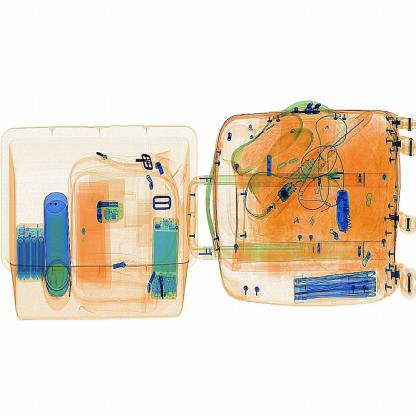scissors: (332, 181, 360, 243)
